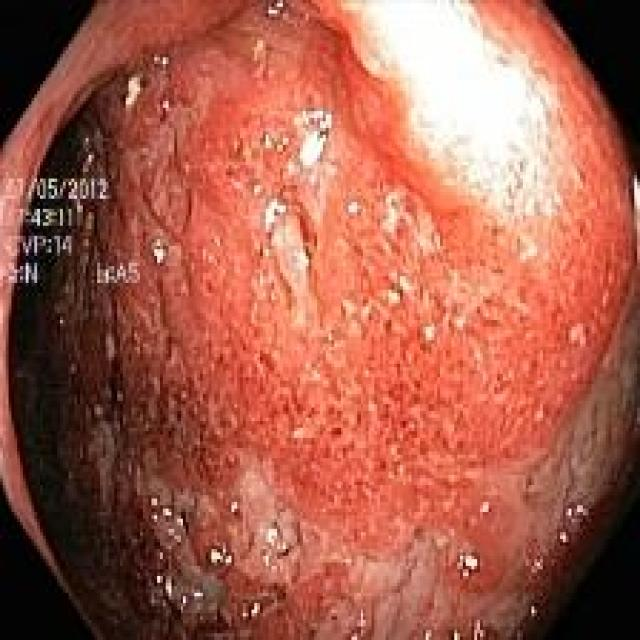ulcerative-colitis-grade-2-3: (9, 4, 640, 637)
